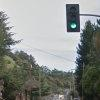Traffic light: (61, 2, 88, 42)
